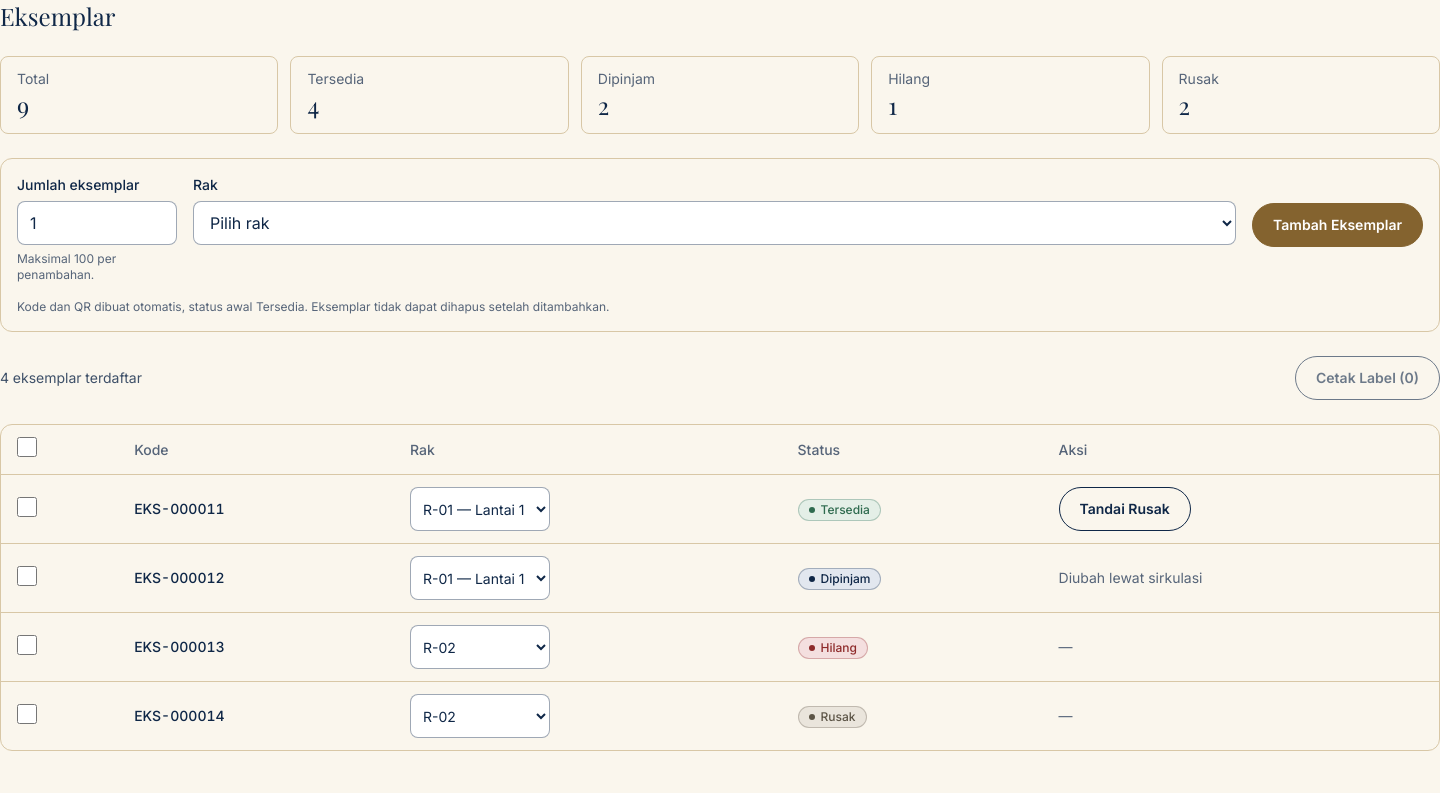
Eksemplar per judul (FR-BKU-04..09, K-02, OQ-20, OQ-21) › FR_BKU_04_konfirmasi_POST_sekali_integer_lalu_pesan_sukses_dan_tautan_label_baru
Replace the text in the field labelled "Jumlah eksemplar" with "5": (97, 223) x1=17 y1=201 x2=177 y2=245
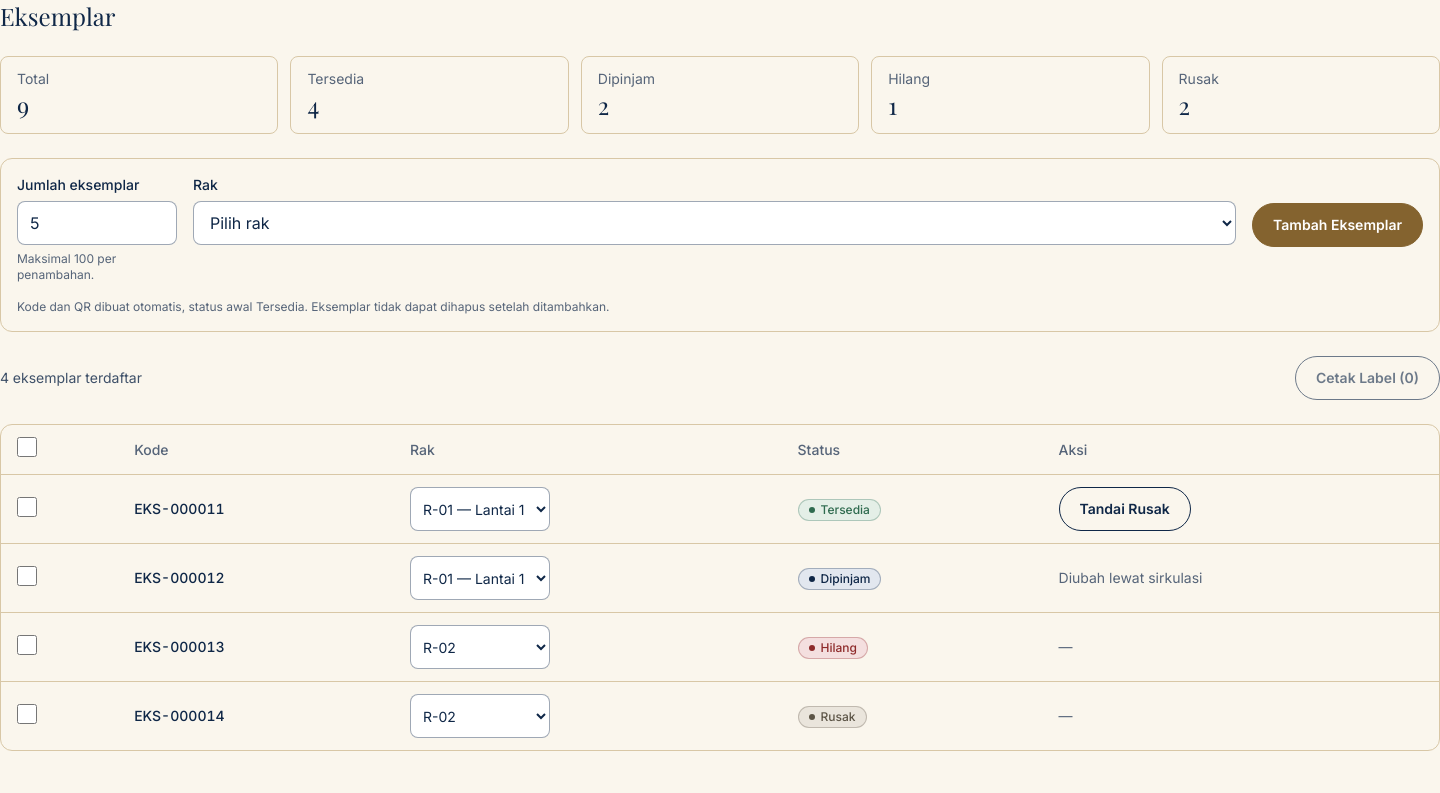
Select "R-02" in the dropdown labelled "Rak": (715, 223) x1=193 y1=201 x2=1236 y2=245
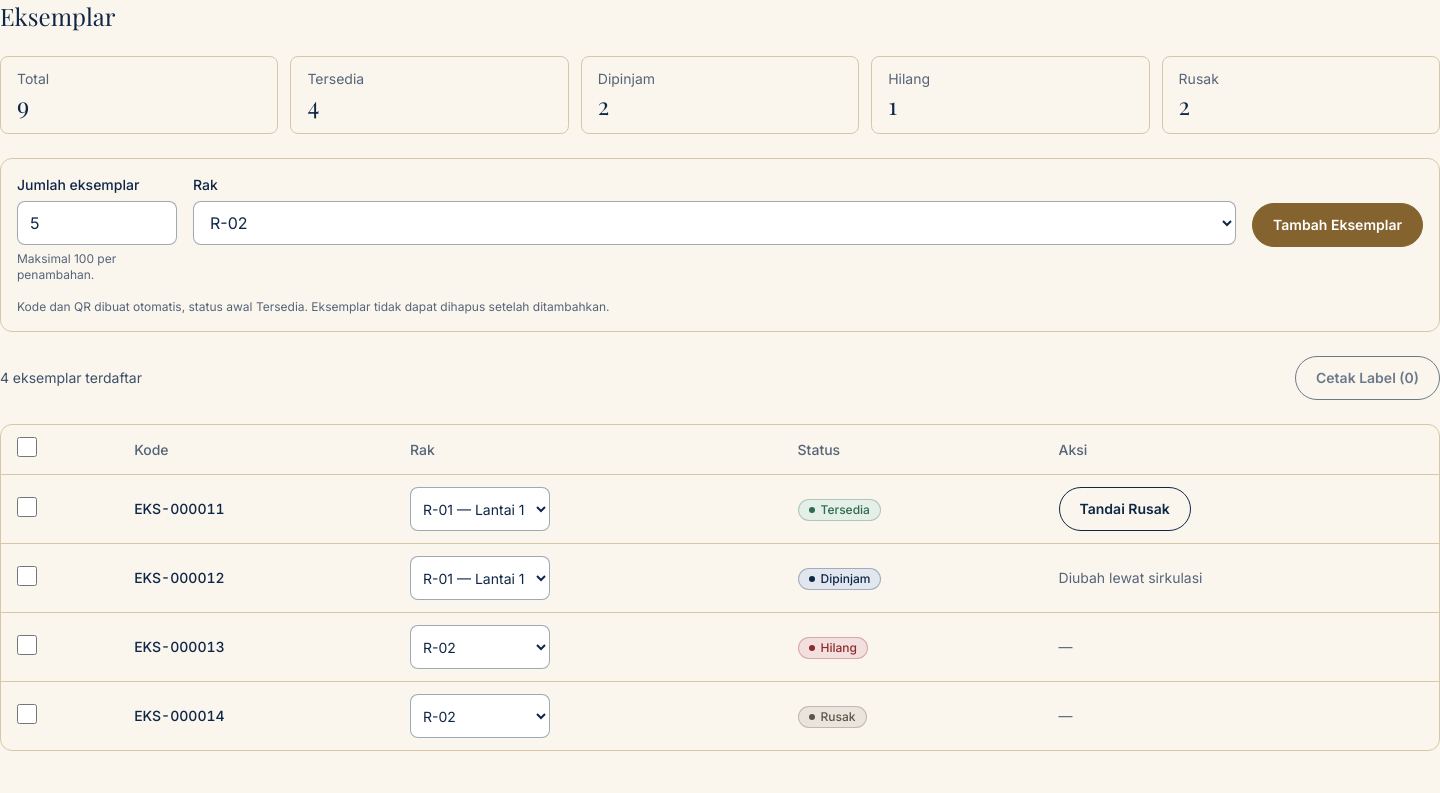
Click the button "Tambah Eksemplar": (1338, 225) x1=1252 y1=203 x2=1423 y2=247
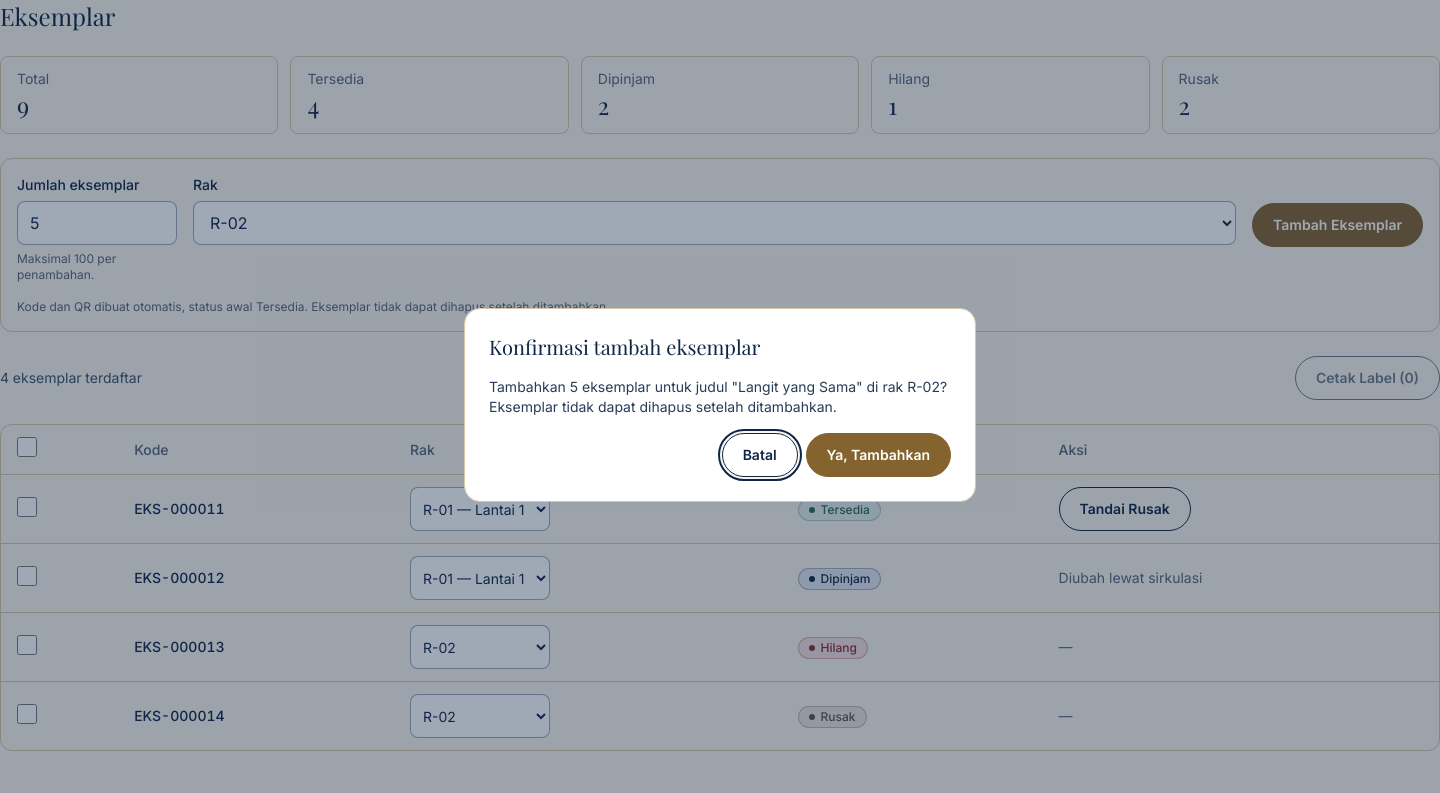
Click the button "Ya, Tambahkan": (878, 455) x1=806 y1=433 x2=951 y2=477
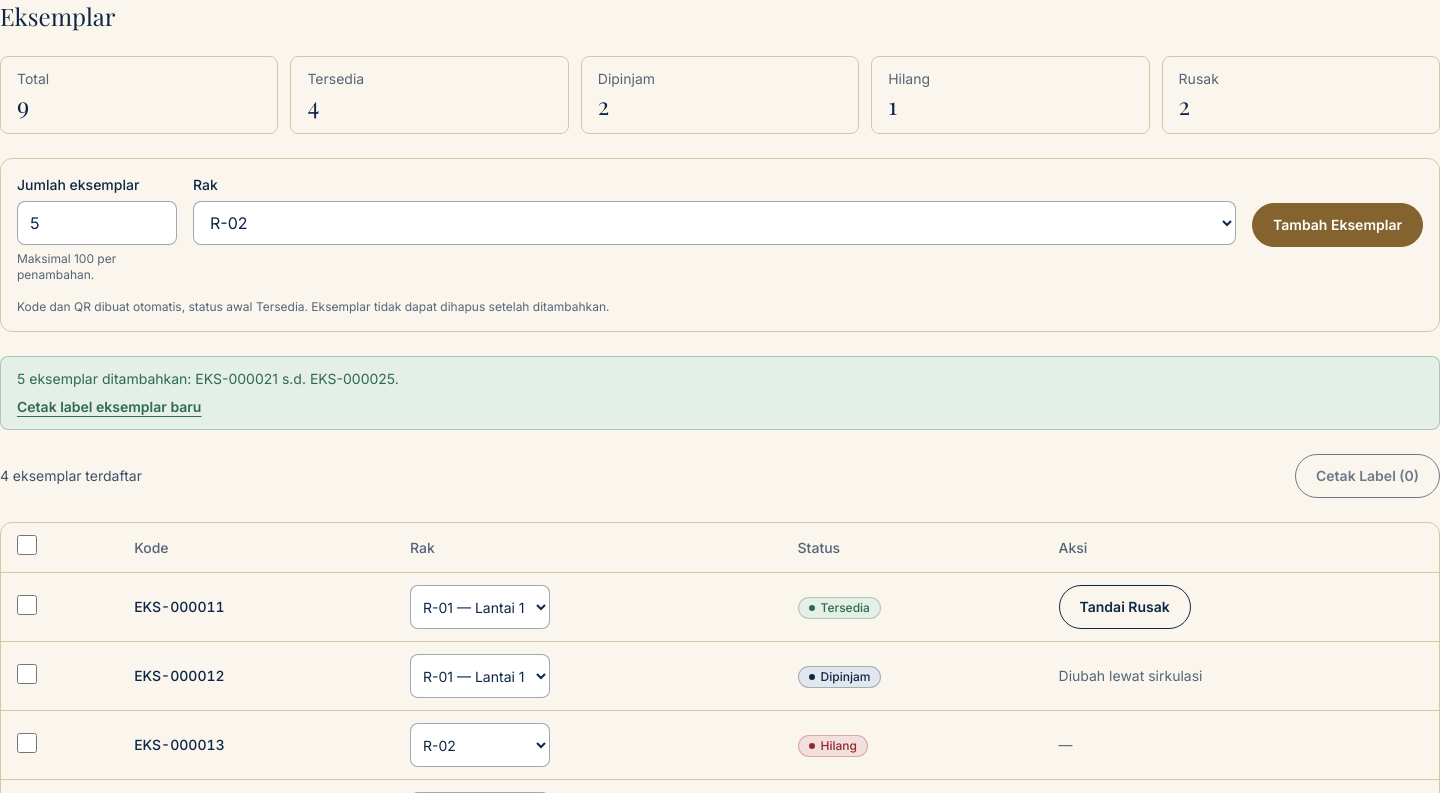
Expected: the message shows "5 eksemplar ditambahkan: EKS-000021 s.d. EKS-000025.", x1=17 y1=370 x2=399 y2=387
